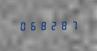eight: (38, 20, 47, 31), (58, 19, 67, 30)
seven: (68, 19, 77, 30)
six: (27, 20, 36, 31)
two: (48, 20, 57, 30)
zero: (17, 20, 26, 31)
